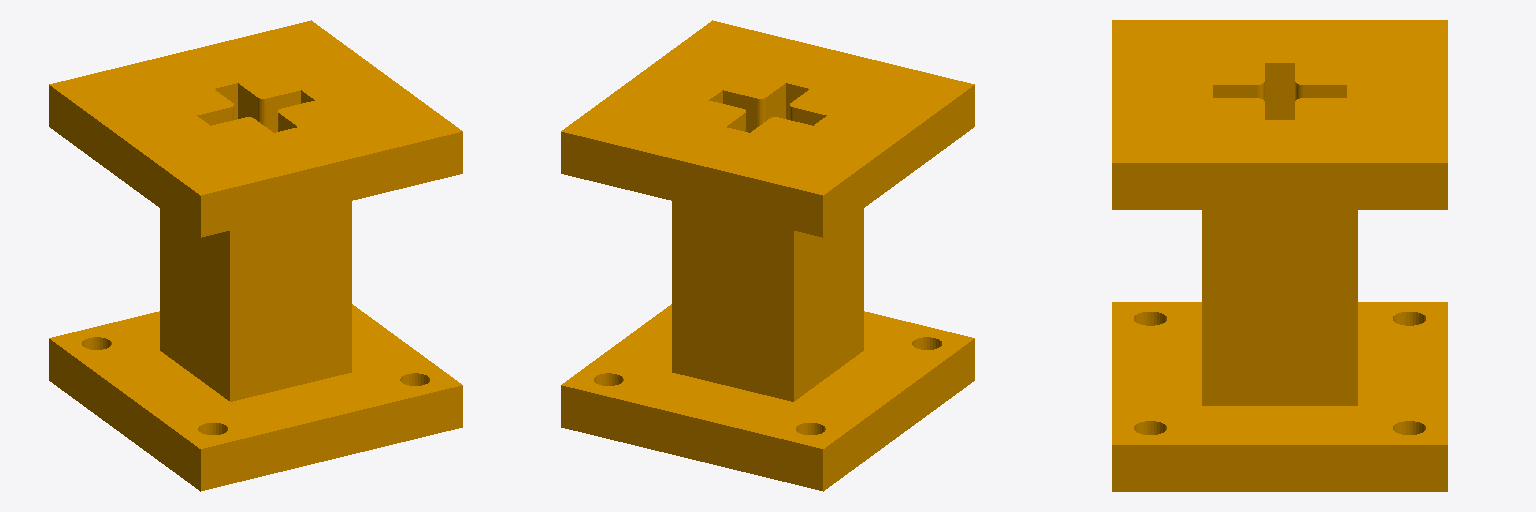
URDF robot description (00069_socket):
<?xml version="1.0"?>
<robot name="00069_socket">
	<link name="00069_socket">
		<visual>
			<geometry>
				<mesh filename="../mesh/00069/asset_socket.obj"/>
			</geometry>
		</visual>
		<collision>
			<geometry>
				<mesh filename="../mesh/00069/asset_socket.obj"/>
			</geometry>
			<sdf resolution="256"/>
		</collision>
	</link>
</robot>

--- What the picture shows (computed from the rendered views, not written in the file) ---
3 views of the same robot in one strip: view 1: azimuth 30°, elevation 25°; view 2: azimuth 150°, elevation 25°; view 3: azimuth 270°, elevation 25° (orthographic).
Robot: 00069_socket — 1 links, 0 joints (none); root link 00069_socket; default pose: all joints at 0.
Visible links, largest first — view 1: 00069_socket; view 2: 00069_socket; view 3: 00069_socket.
Link boxes in pixels (bbox=[...]): 00069_socket: bbox=[49, 20, 462, 491]; 00069_socket: bbox=[561, 20, 974, 491]; 00069_socket: bbox=[1112, 20, 1447, 491].
Bounding box of the posed robot: 0.065 × 0.065 × 0.07 m (x, y, z).
1 mesh visuals loaded from 1 distinct referenced files (1 OBJ).
